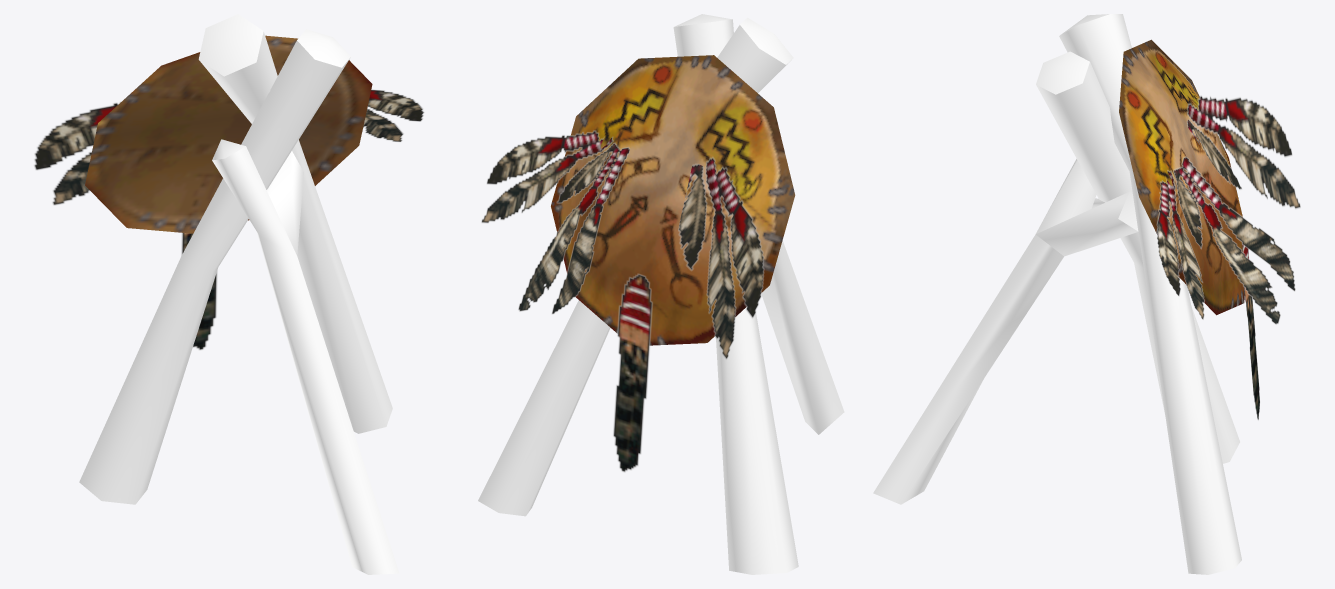
3 renders of one model, left to right at view 1: azimuth 30°, elevation 25°; view 2: azimuth 150°, elevation 25°; view 3: azimuth 270°, elevation 25°, orthographic. The views are drawn at different scales.
Parts seen in each view (by area): view 1: post, shield, feathers2, feathers1, feather; view 2: shield, post, feathers1, feathers2, feather; view 3: post, shield, feathers1, feathers2, feather.
Part boxes in pixels (<box>): post: <box>79,14,399,574</box>; shield: <box>85,35,372,233</box>; feathers2: <box>34,101,121,205</box>; feathers1: <box>362,89,424,141</box>; feather: <box>181,233,217,350</box>; shield: <box>551,55,795,345</box>; post: <box>478,14,844,574</box>; feathers1: <box>481,130,629,314</box>; feathers2: <box>678,157,764,359</box>; feather: <box>613,273,652,472</box>; post: <box>873,14,1241,574</box>; shield: <box>1119,39,1244,315</box>; feathers1: <box>1156,156,1295,324</box>; feathers2: <box>1187,95,1300,209</box>; feather: <box>1242,244,1259,420</box>.
Bounding box in the file's own units: 115 × 148 × 125.
Materials: 5 (4 with a texture image).
